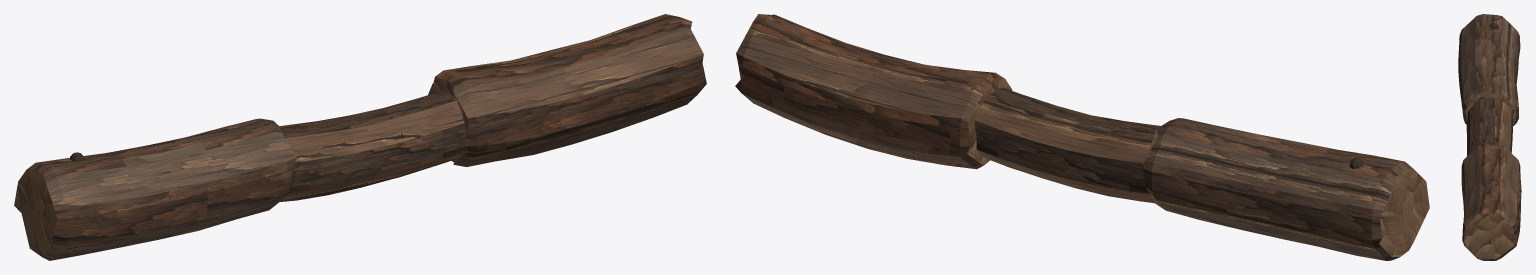
Rendered from beam_old.glb.
The picture shows the model from 3 angles, left to right: view 1: azimuth 30°, elevation 25°; view 2: azimuth 150°, elevation 25°; view 3: azimuth 270°, elevation 25°; orthographic projection. The views are drawn at different scales.
Visible parts, largest first — view 1: model; view 2: model; view 3: model.
Part boxes in pixels (x1,y1,x2,y2): model: (14, 14, 706, 260); model: (735, 14, 1429, 260); model: (1458, 14, 1521, 260).
Bounding box in the file's own units: 1.97 × 0.3027 × 0.2632.
10 materials, 10 textured.
